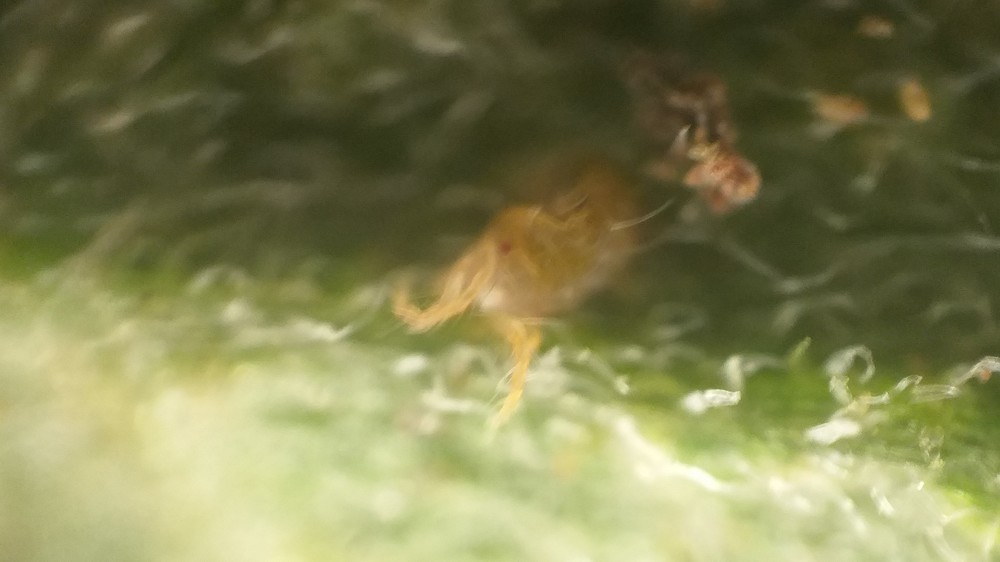Aracnido Rojo: (384, 133, 678, 425)
